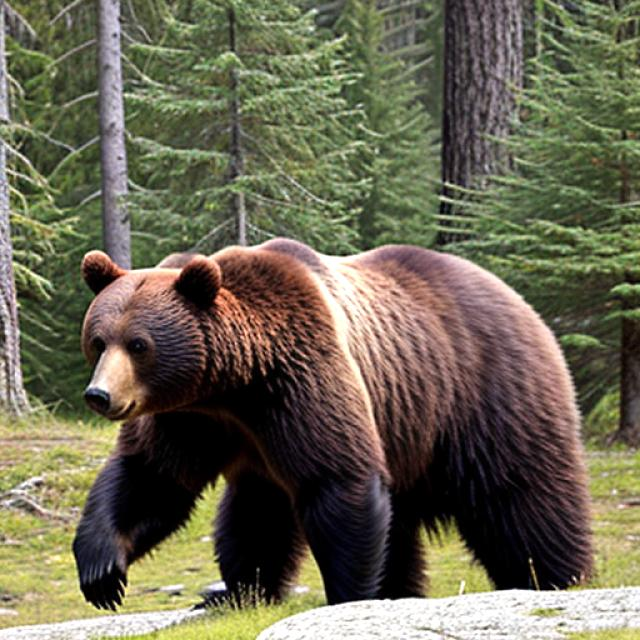bear: (67, 222, 578, 640)
